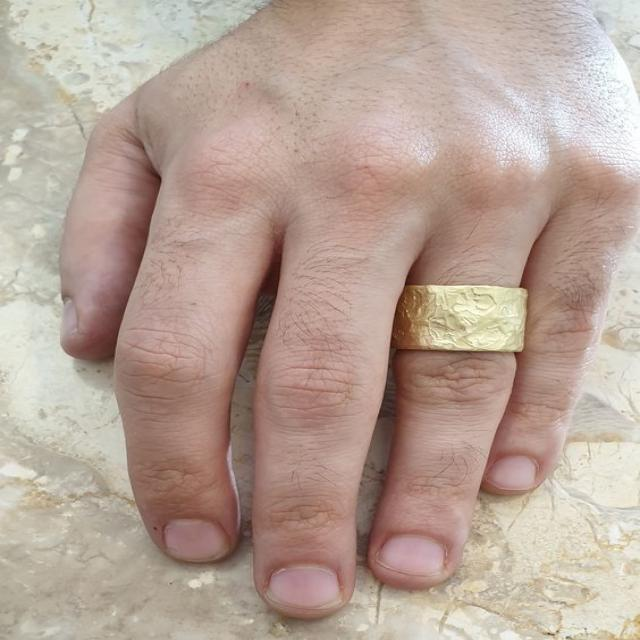Fingernail: (268, 566, 340, 608), (379, 536, 445, 574), (165, 520, 226, 560), (490, 457, 536, 490), (62, 299, 77, 337)
